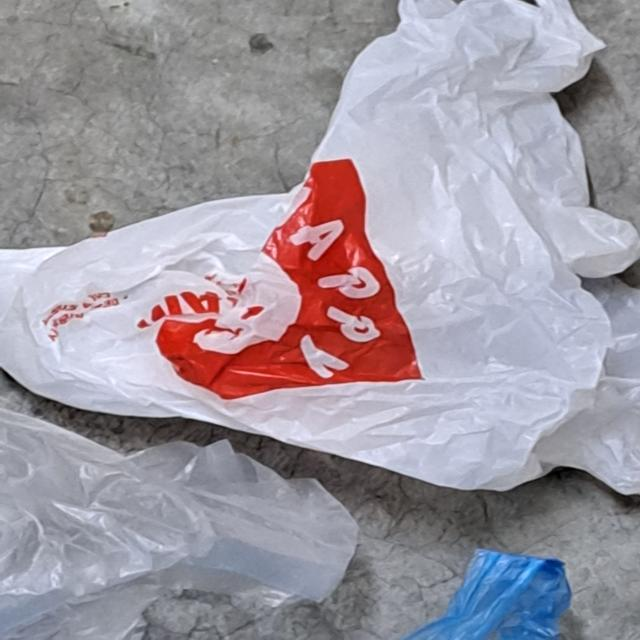plastic bag: (0, 0, 640, 496), (0, 410, 361, 640), (402, 551, 572, 640)
